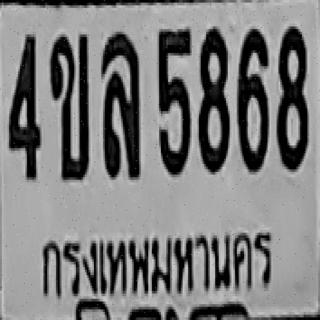A02: (49, 33, 89, 178)
N04: (7, 32, 40, 180)
N05: (157, 28, 190, 176)
N06: (237, 27, 268, 172)
N08: (276, 25, 308, 170), (198, 28, 229, 173)
P04: (38, 226, 277, 299)
